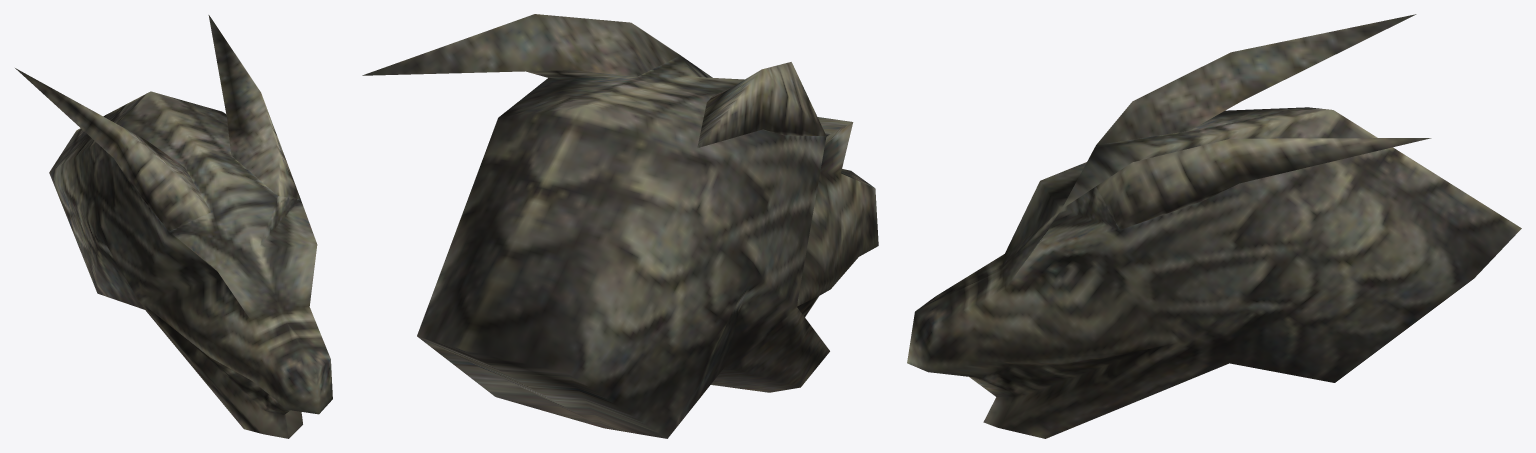
File: FullHead.fbx
3 renders of one model, left to right at view 1: azimuth 30°, elevation 25°; view 2: azimuth 150°, elevation 25°; view 3: azimuth 270°, elevation 25°, orthographic. The views are drawn at different scales.
Parts seen in each view (by area): view 1: Statue07_c; view 2: Statue07_c; view 3: Statue07_c.
Part boxes in pixels (x1,y1,x2,y2): Statue07_c: (15, 15, 332, 438); Statue07_c: (362, 14, 878, 438); Statue07_c: (907, 14, 1521, 438).
Size of the model in its own units: 38.66 by 52.34 by 81.05.
